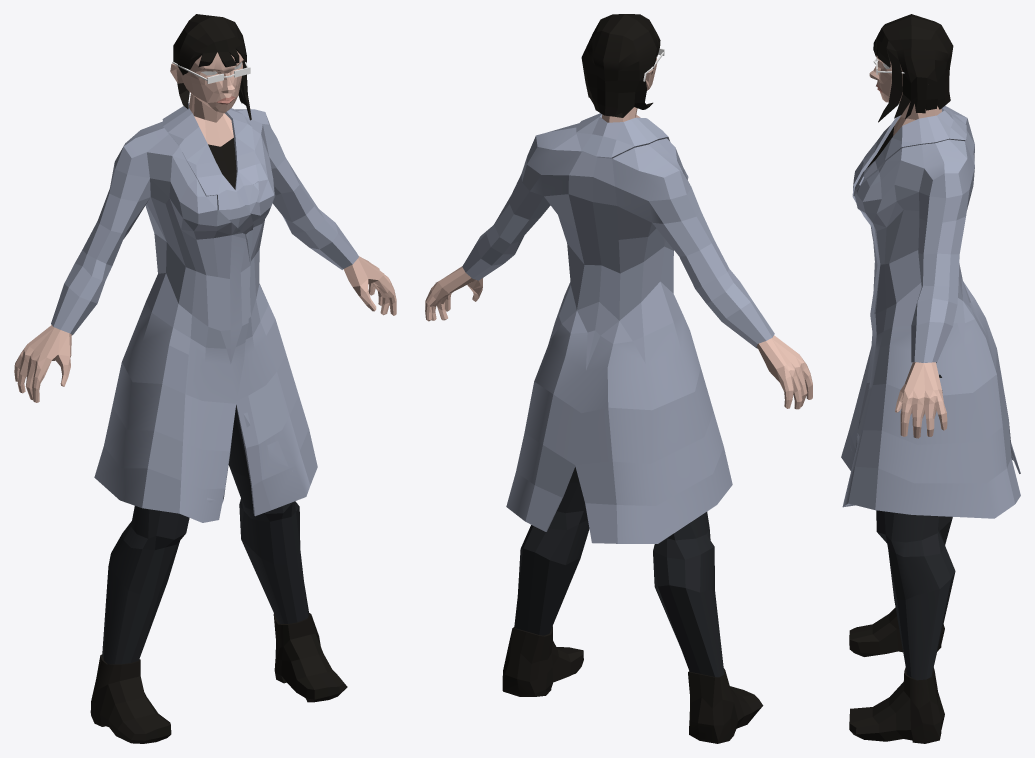
Rendered from profWoman_bob.fbx.
The picture shows the model from 3 angles, left to right: view 1: azimuth 30°, elevation 25°; view 2: azimuth 150°, elevation 25°; view 3: azimuth 270°, elevation 25°; orthographic projection. The views are drawn at different scales.
Parts seen in each view (by area): view 1: WomanBob; view 2: WomanBob; view 3: WomanBob.
Boxes of the visible parts, box(x1,y1,x2,y2) form: WomanBob: box(14, 14, 396, 743); WomanBob: box(425, 14, 812, 743); WomanBob: box(841, 14, 1020, 743).
Bounding box in the file's own units: 1.11 × 1.98 × 0.4791.
Materials: 1 (1 with a texture image).
